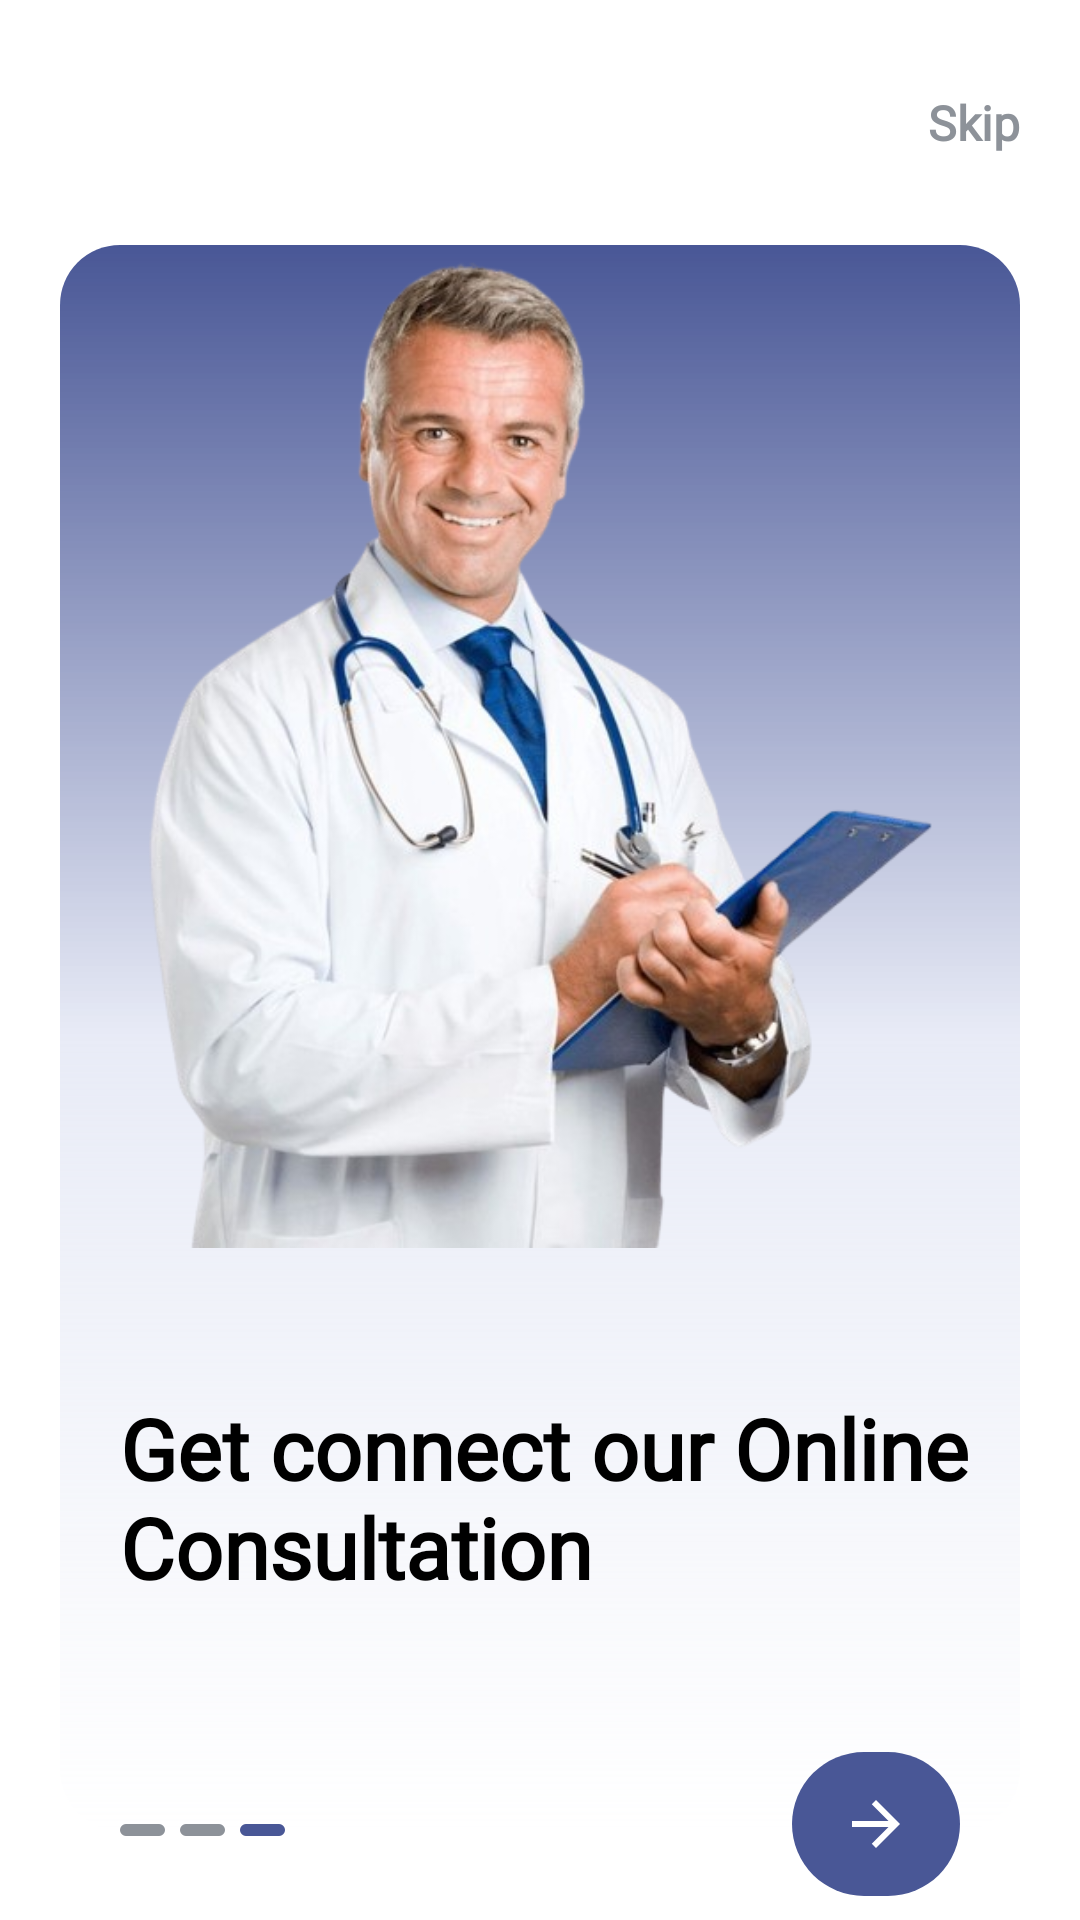

Icons on this 1080 × 1920 Android screen, each with its box as (x1, y1, x2, y2):
arrow next: (852, 1800, 900, 1848)
